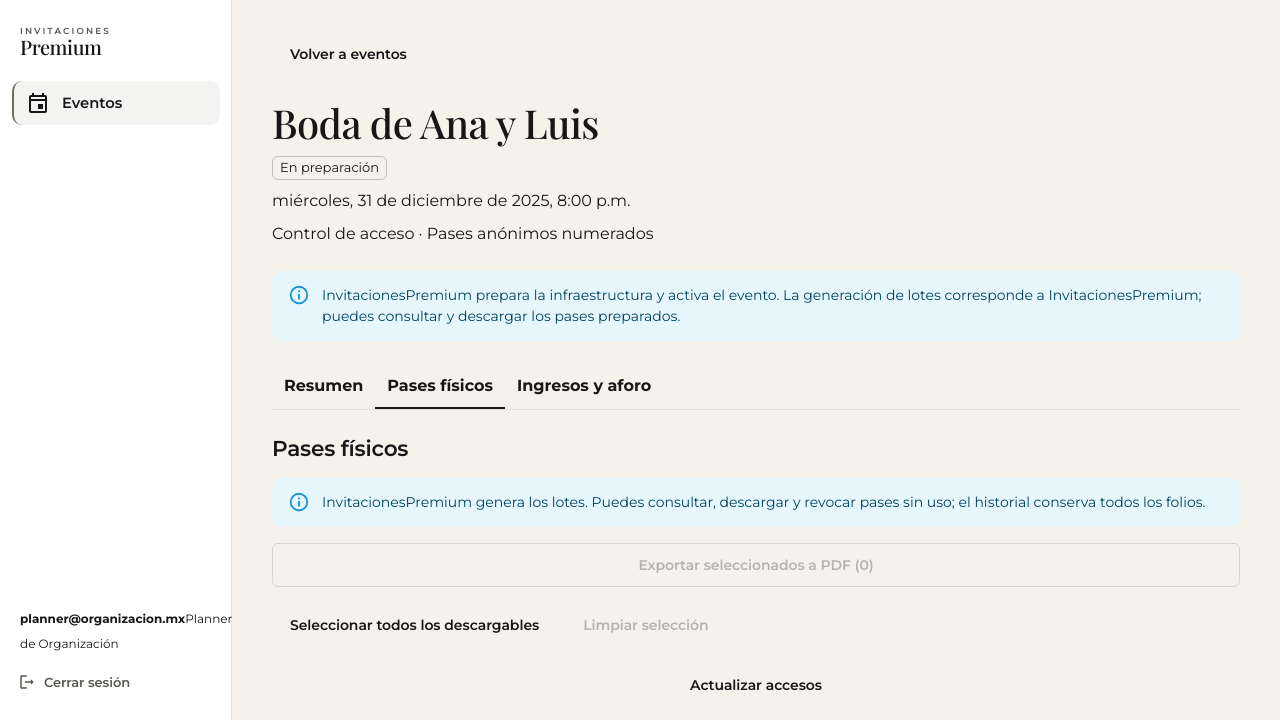
Scenario: ACCESS_CONTROL Client workspace › clears a prior PDF success when authoritative revalidation fails on the next export
Click the button "Seleccionar todos los descargables" at (415, 625), box [272,603,557,647]
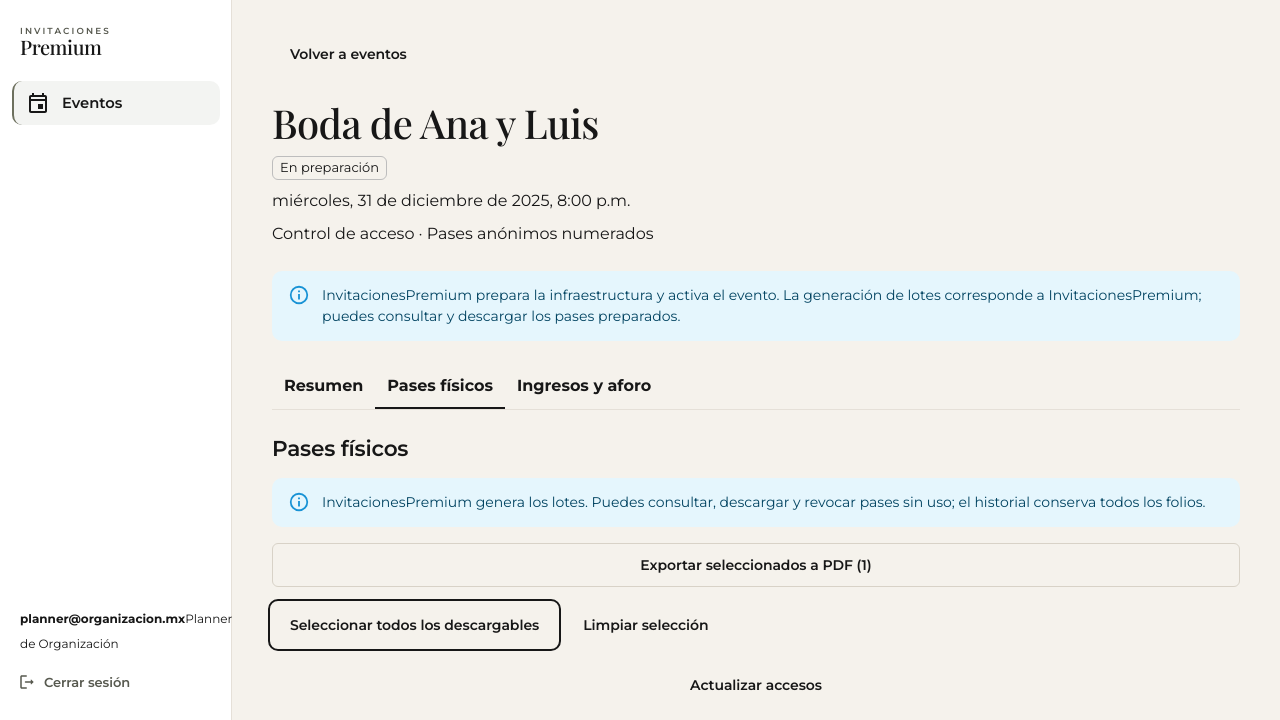
Click the button "Exportar seleccionados a PDF (1)" at (756, 565), box [272,543,1240,587]
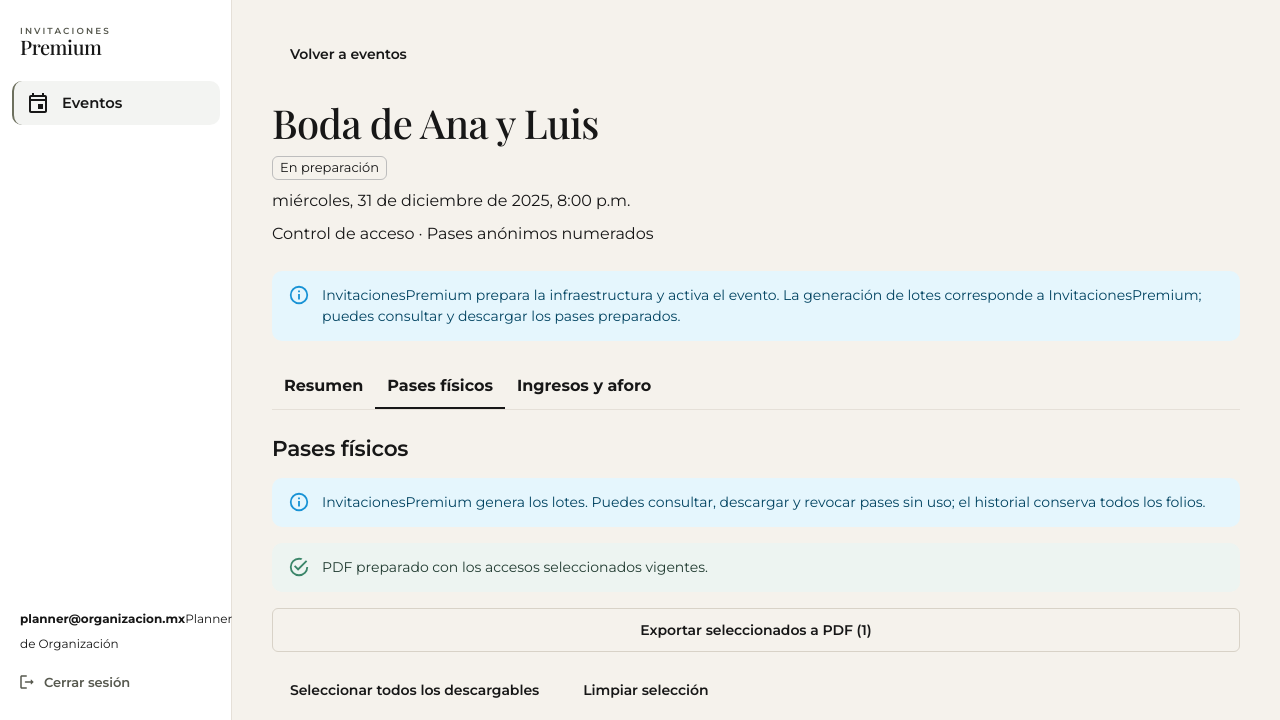
Check: the text "PDF preparado con los accesos seleccionados vigentes." is shown, box [322,558,708,576]
Click the button "Exportar seleccionados a PDF (1)" at (756, 630), box [272,608,1240,652]
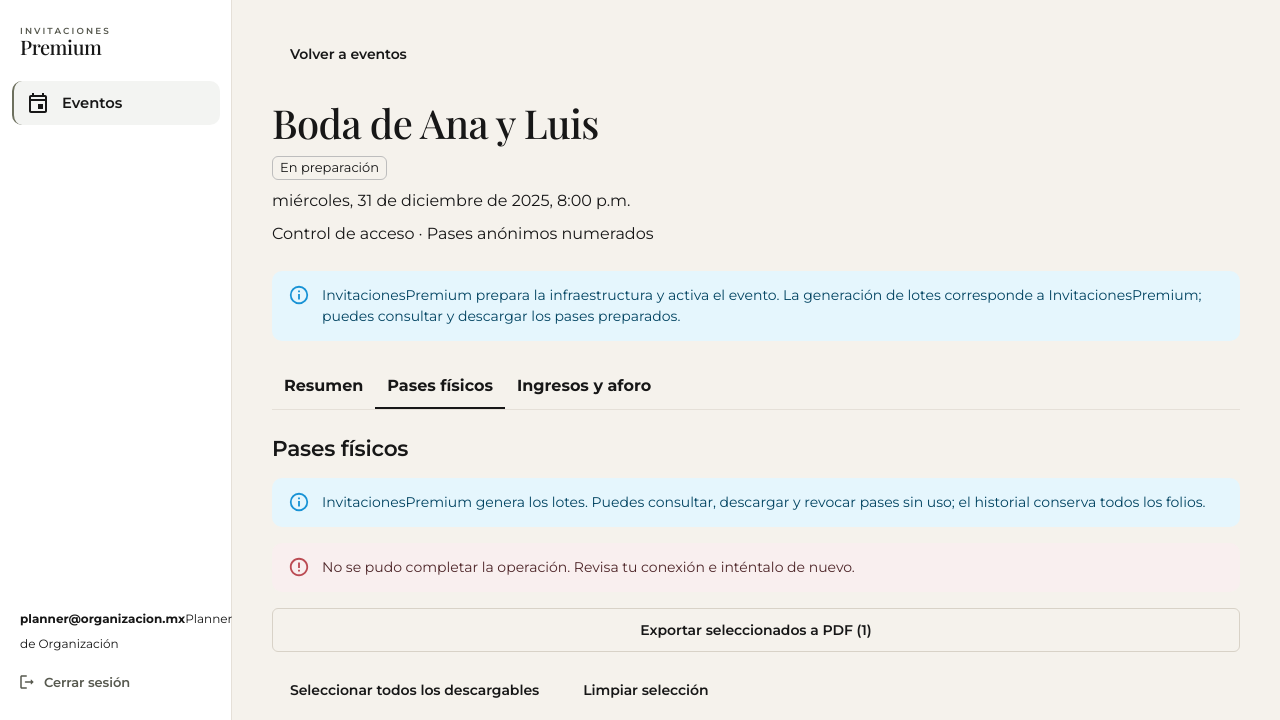
Check: the text "PDF preparado con los accesos seleccionados vigentes." is gone
Check: the text "No se pudo completar la operación. Revisa tu conexión e inténtalo de nuevo." is shown, box [322,558,855,576]
